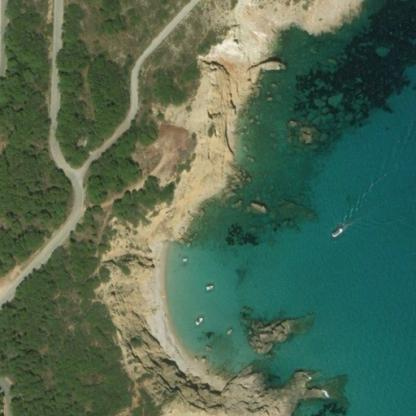ship: (330, 224, 343, 239), (194, 315, 203, 326), (207, 285, 211, 289), (183, 257, 185, 261), (228, 329, 229, 332)
